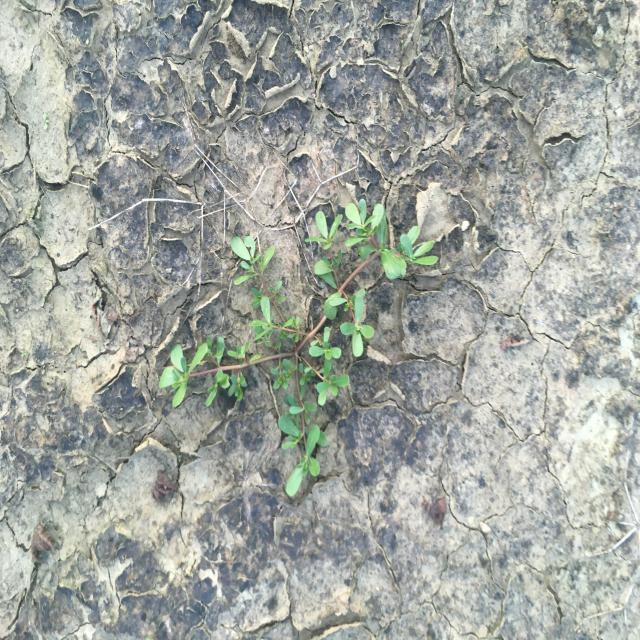Purslane: (157, 196, 440, 498)
